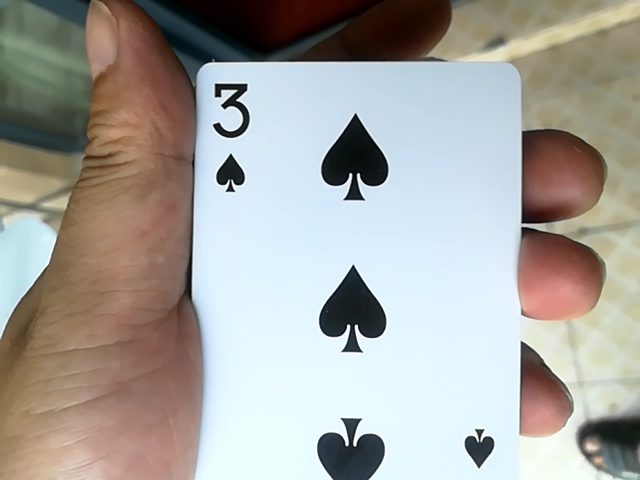ht 3: (177, 55, 525, 475)
